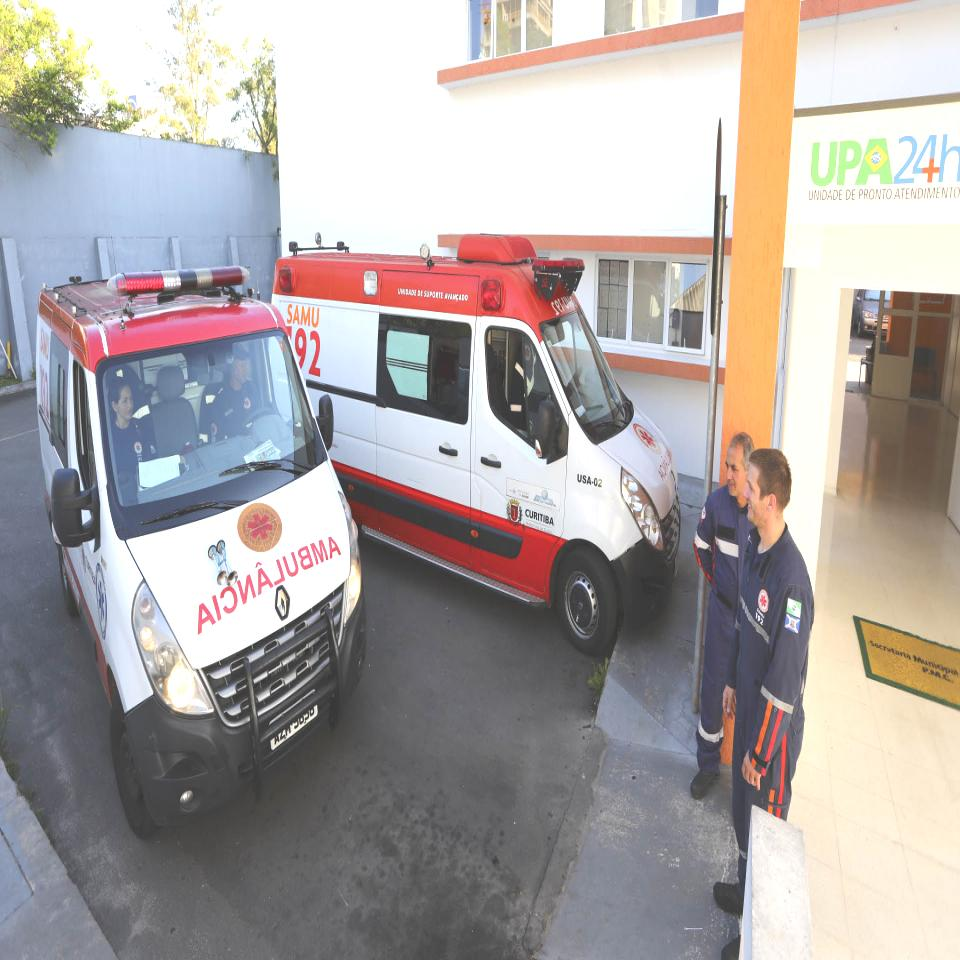ambulancia: (29, 254, 366, 844), (275, 227, 686, 662)
